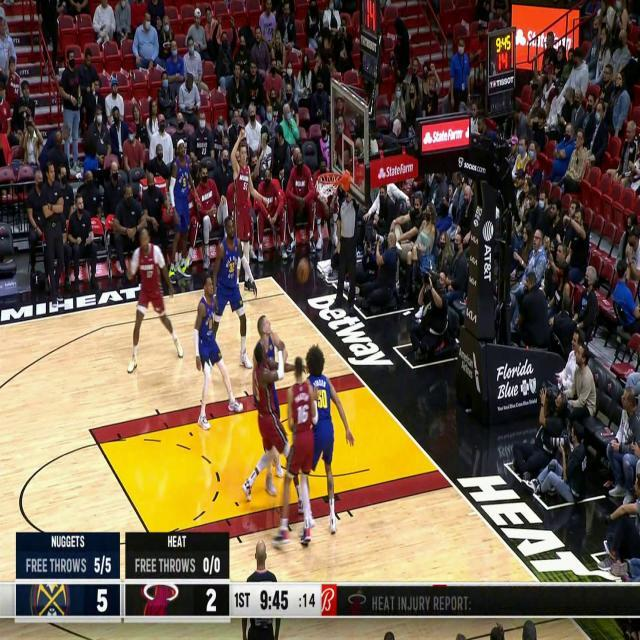rim: (298, 257, 310, 282)
